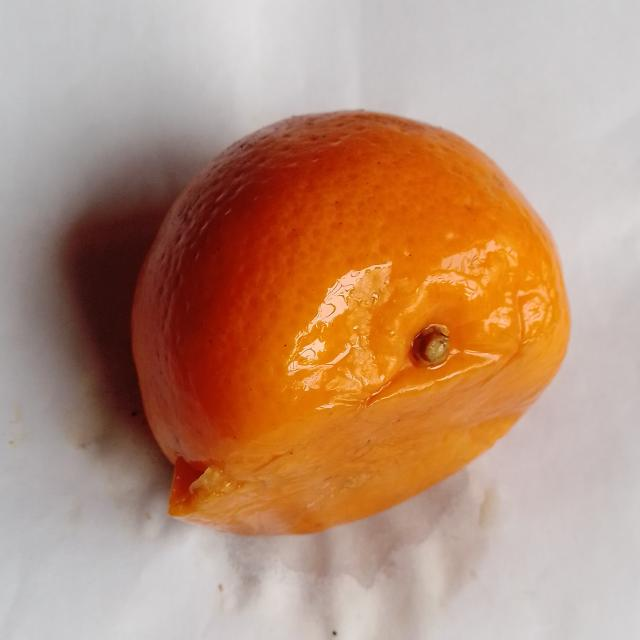orange: (133, 112, 569, 534)
